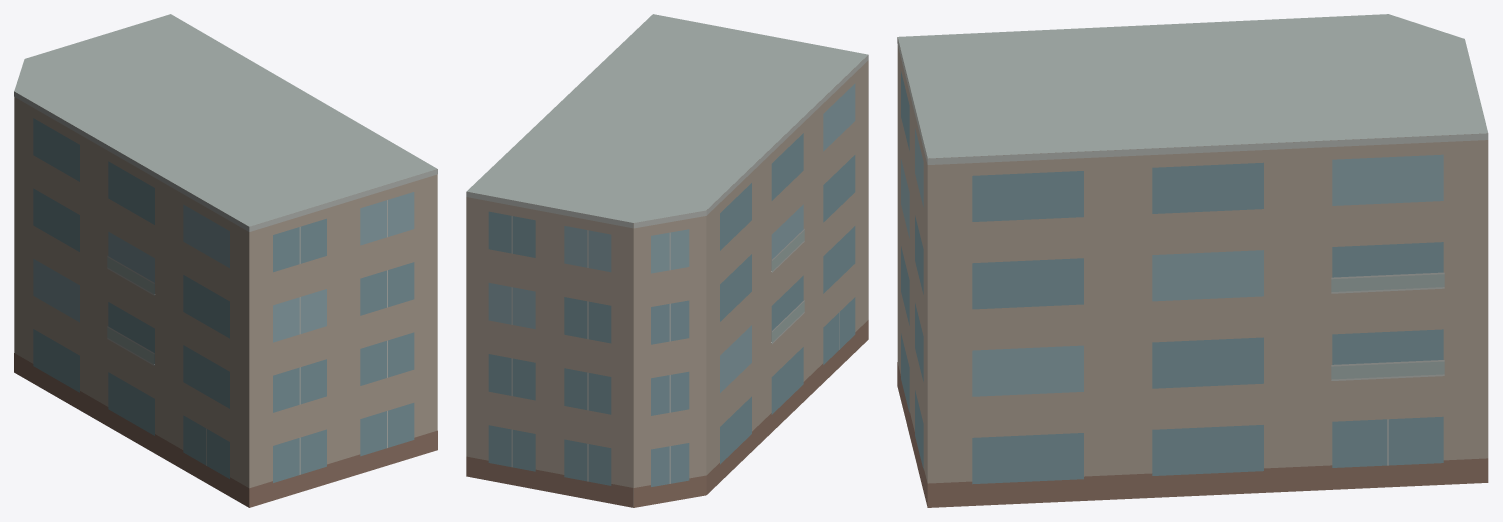
The model's file is survey-upis-32653058.glb.
The picture shows the model from 3 angles, left to right: view 1: azimuth 30°, elevation 25°; view 2: azimuth 150°, elevation 25°; view 3: azimuth 270°, elevation 25°; orthographic projection. The views are drawn at different scales.
Visible parts, largest first — view 1: survey-upis-32653058.tmp; view 2: survey-upis-32653058.tmp; view 3: survey-upis-32653058.tmp.
Boxes of the visible parts, x1,y1,x2,y2 form: survey-upis-32653058.tmp: (14, 14, 437, 507); survey-upis-32653058.tmp: (466, 14, 868, 507); survey-upis-32653058.tmp: (897, 14, 1488, 507).
Size of the model in its own units: 11.36 by 12.8 by 19.63.
